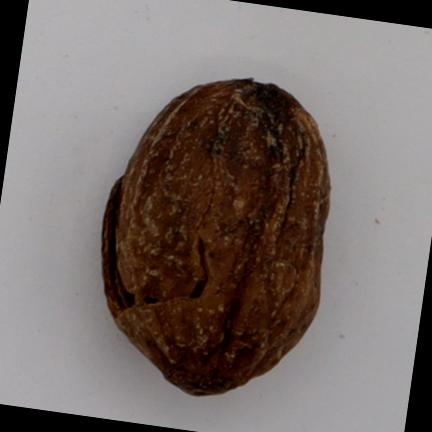husk: (101, 78, 329, 393)
